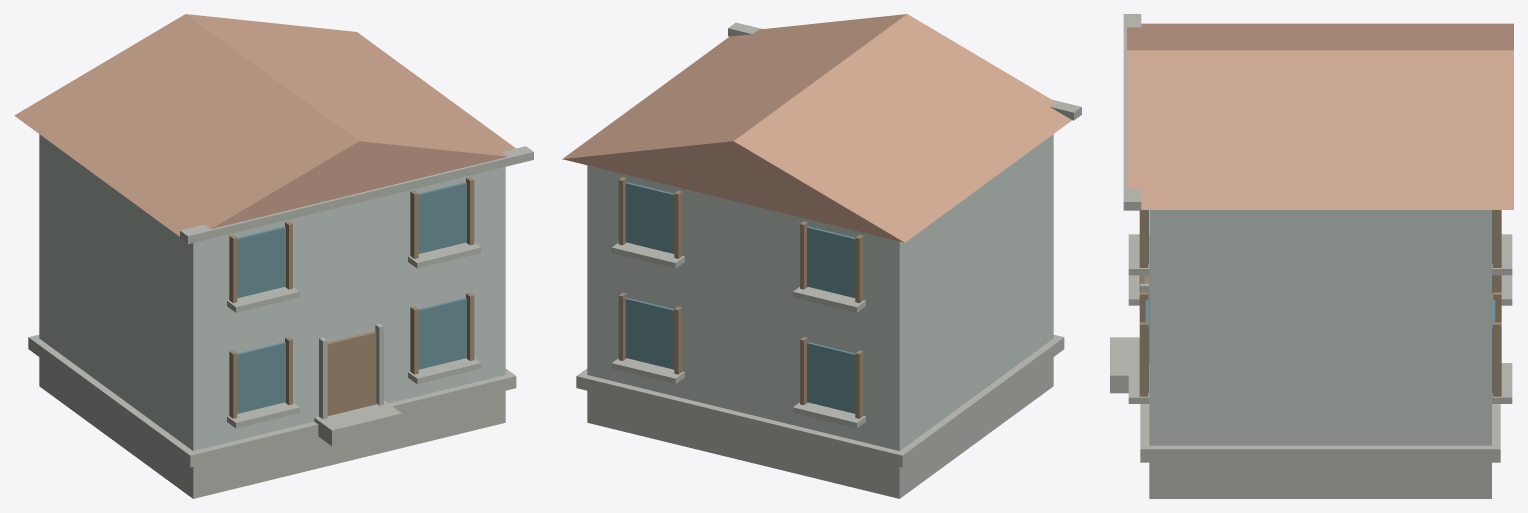
The model's file is house-1.glb.
3 renders of one model, left to right at view 1: azimuth 30°, elevation 25°; view 2: azimuth 150°, elevation 25°; view 3: azimuth 270°, elevation 25°, orthographic. The views are drawn at different scales.
Size of the model in its own units: 4.54 by 4.1 by 4.13.
